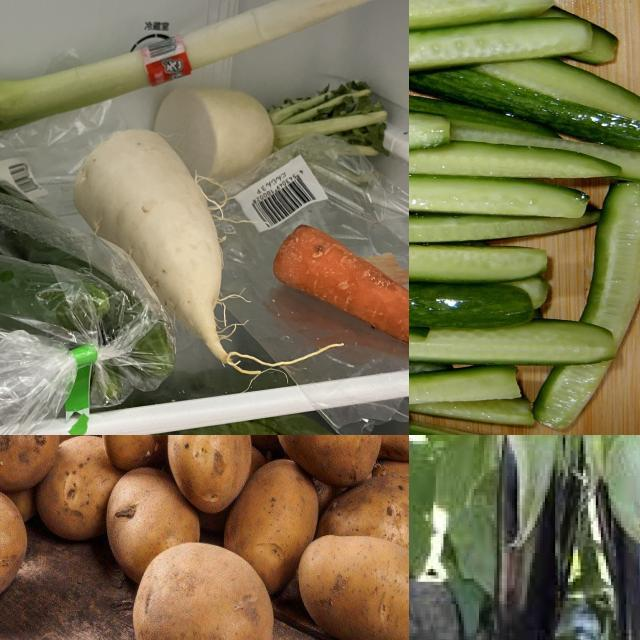carrot: (270, 223, 410, 357)
cucumber: (410, 252, 537, 330)
eggplant: (487, 436, 556, 640)
potato: (134, 534, 274, 640), (293, 517, 410, 640), (164, 436, 251, 505), (1, 482, 37, 608), (98, 436, 193, 482), (276, 436, 387, 475), (1, 436, 63, 487)
